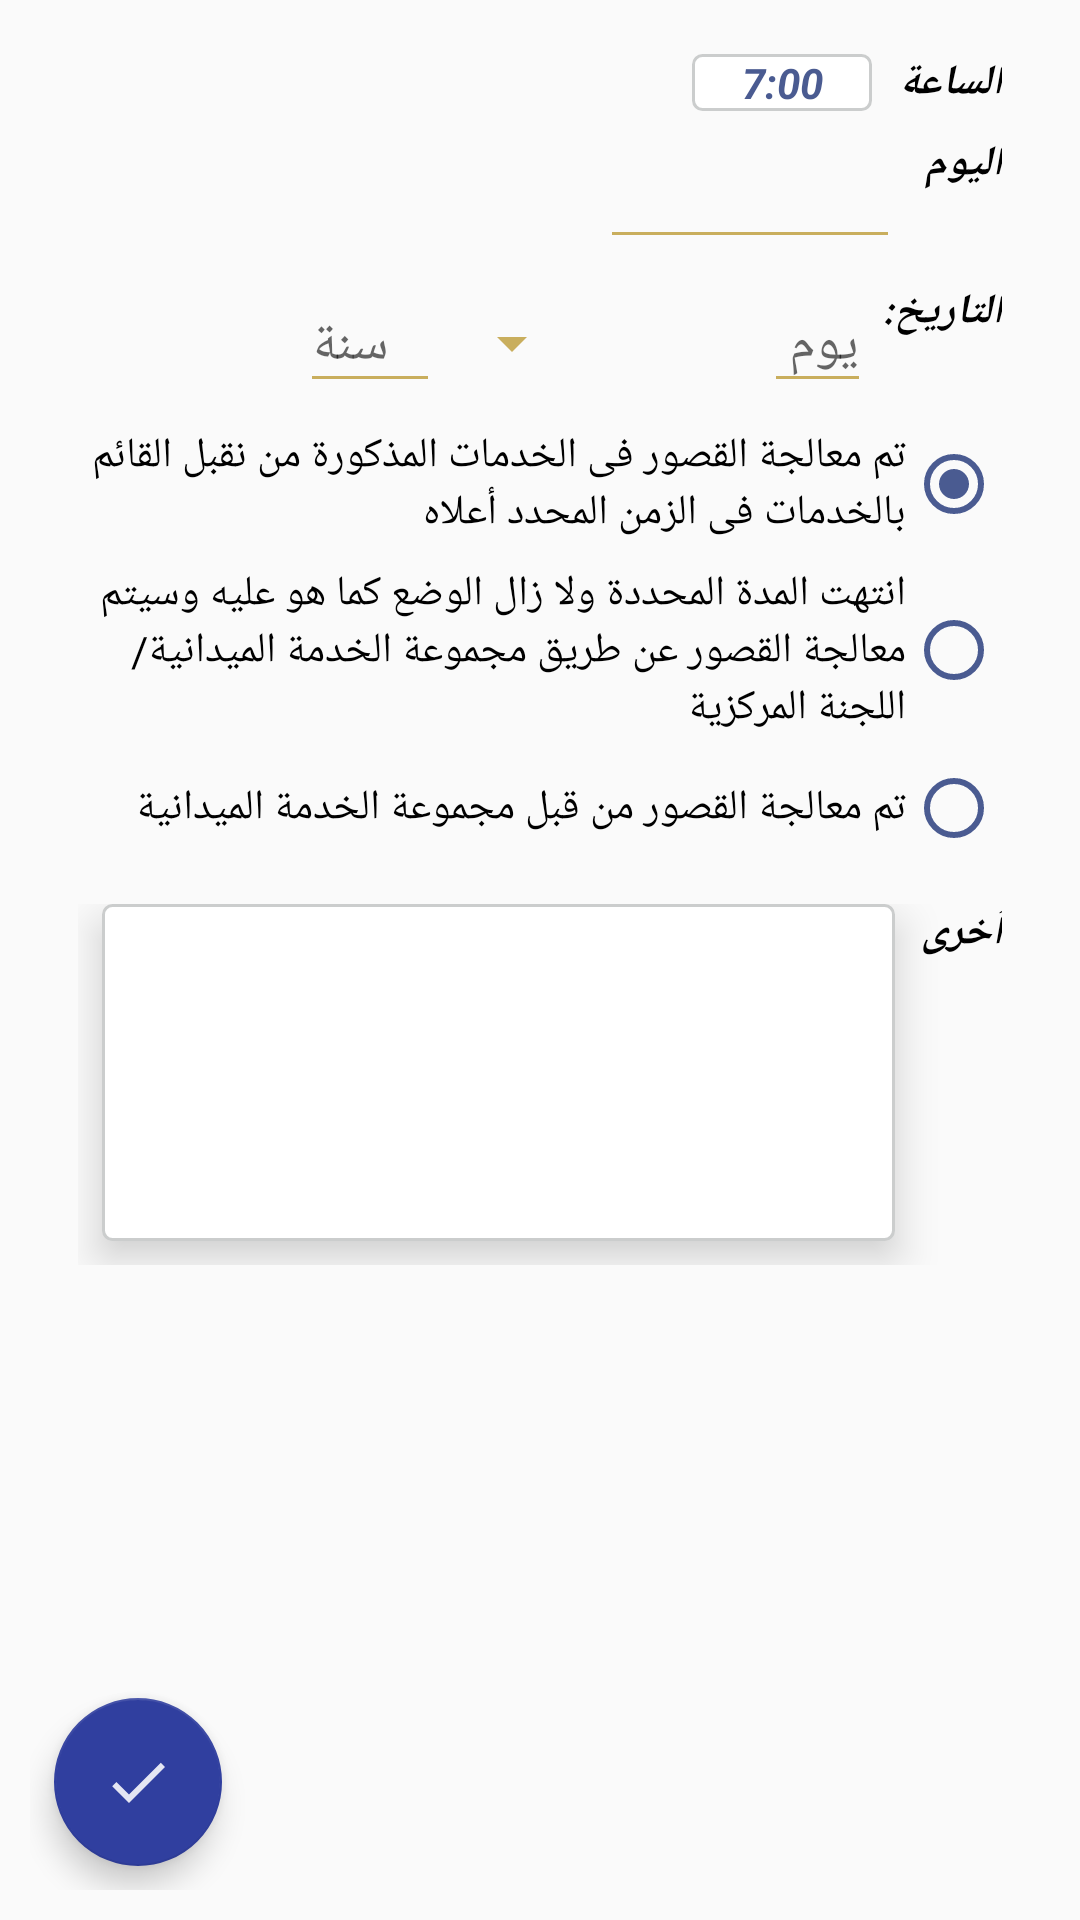

Screen size 1080×1920. Icon name, then its box in pixels as (x1, y1, x2, y2):
right: (54, 1698, 222, 1866)
